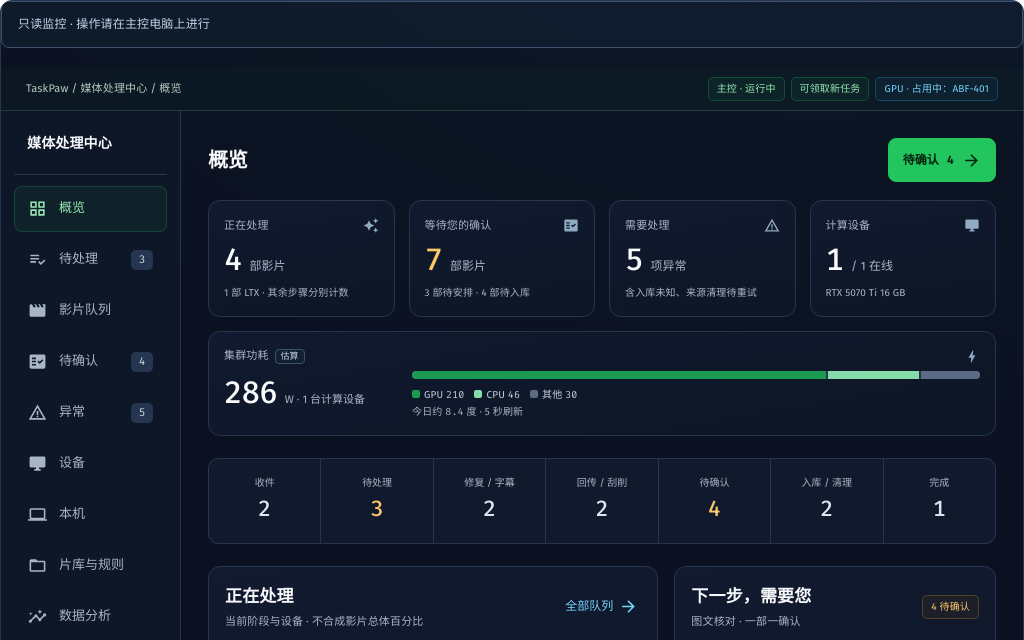
Test: #286 Hub media read-only workspace › shows the power figures as display only, without the Agent's 功耗详情 link
Check: the heading "概览" is shown, box left=208, top=146, right=248, bottom=174
Check: the element with test id "cluster-power" shows "286W · 1 台计算设备", box left=208, top=331, right=996, bottom=436
Click the 1st button "待处理 3".
click(90, 260)  # box left=14, top=237, right=167, bottom=283
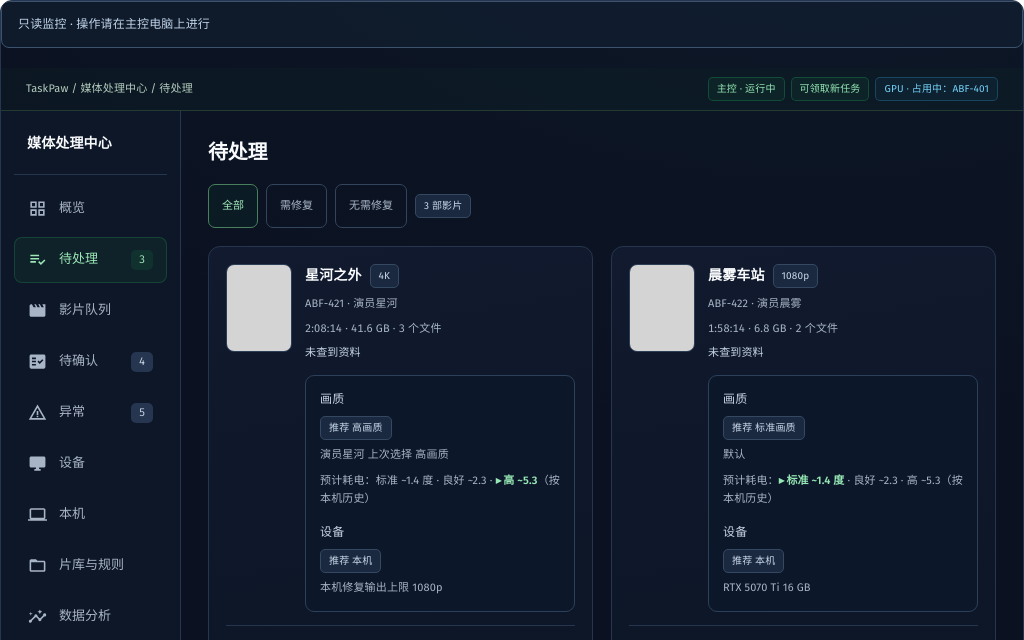
Check: the heading "待处理" is shown, box left=208, top=138, right=267, bottom=166
Check: the heading "星河之外" is shown, box left=305, top=265, right=362, bottom=287
Check: the text "预计耗电：标准 ~1.4 度 · 良好 ~2.3 · 高 ~5.3（按本机历史）" is shown, box left=320, top=472, right=560, bottom=509
